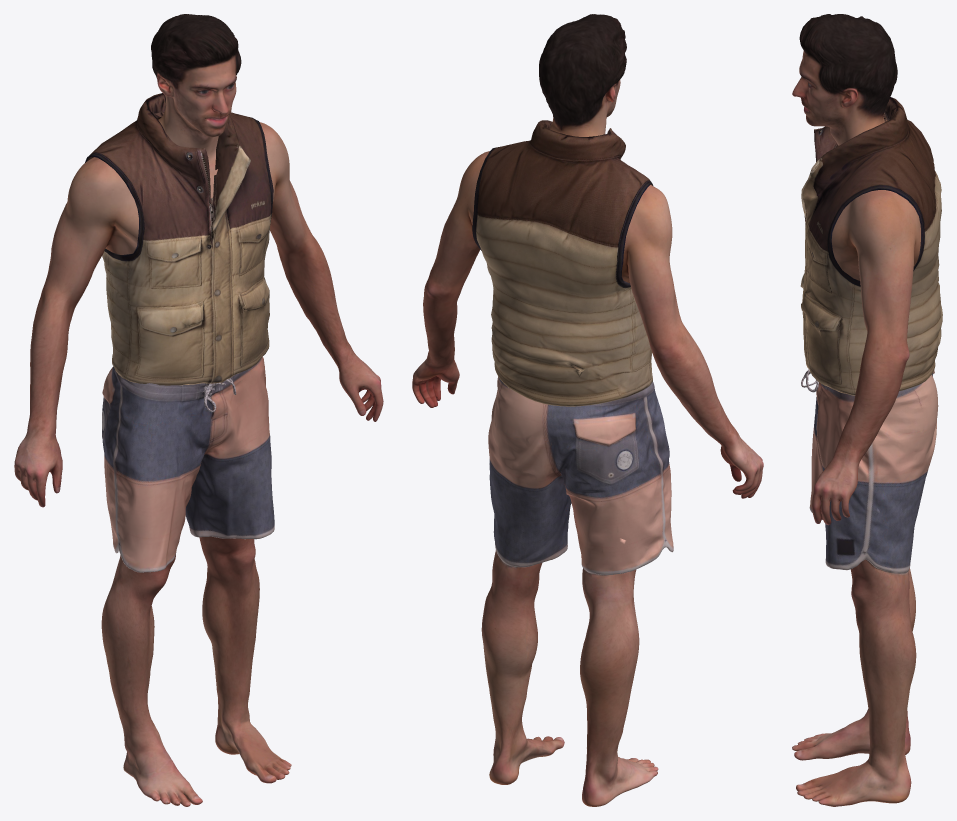
Rendered from armodel.glb.
3 views of the same model, side by side, from view 1: azimuth 30°, elevation 25°; view 2: azimuth 150°, elevation 25°; view 3: azimuth 270°, elevation 25° (orthographic).
Parts seen in each view (by area): view 1: rp_philip_posed_032_100k, 05-beige-brown-vest; view 2: rp_philip_posed_032_100k, 05-beige-brown-vest; view 3: rp_philip_posed_032_100k, 05-beige-brown-vest.
Boxes of the visible parts, box(x1,y1,x2,y2) form: rp_philip_posed_032_100k: box(14, 14, 383, 806); 05-beige-brown-vest: box(85, 93, 273, 385); rp_philip_posed_032_100k: box(412, 14, 763, 806); 05-beige-brown-vest: box(472, 120, 653, 406); rp_philip_posed_032_100k: box(792, 14, 938, 806); 05-beige-brown-vest: box(800, 97, 942, 395).
Size of the model in its own units: 0.8888 by 1.84 by 0.3341.
2 materials, 2 textured.
